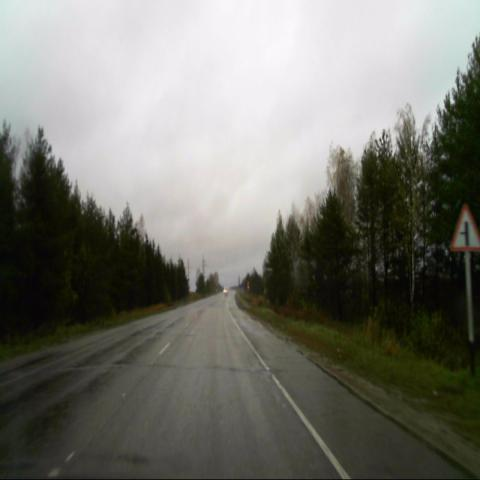2_3_3: (450, 203, 480, 252)
